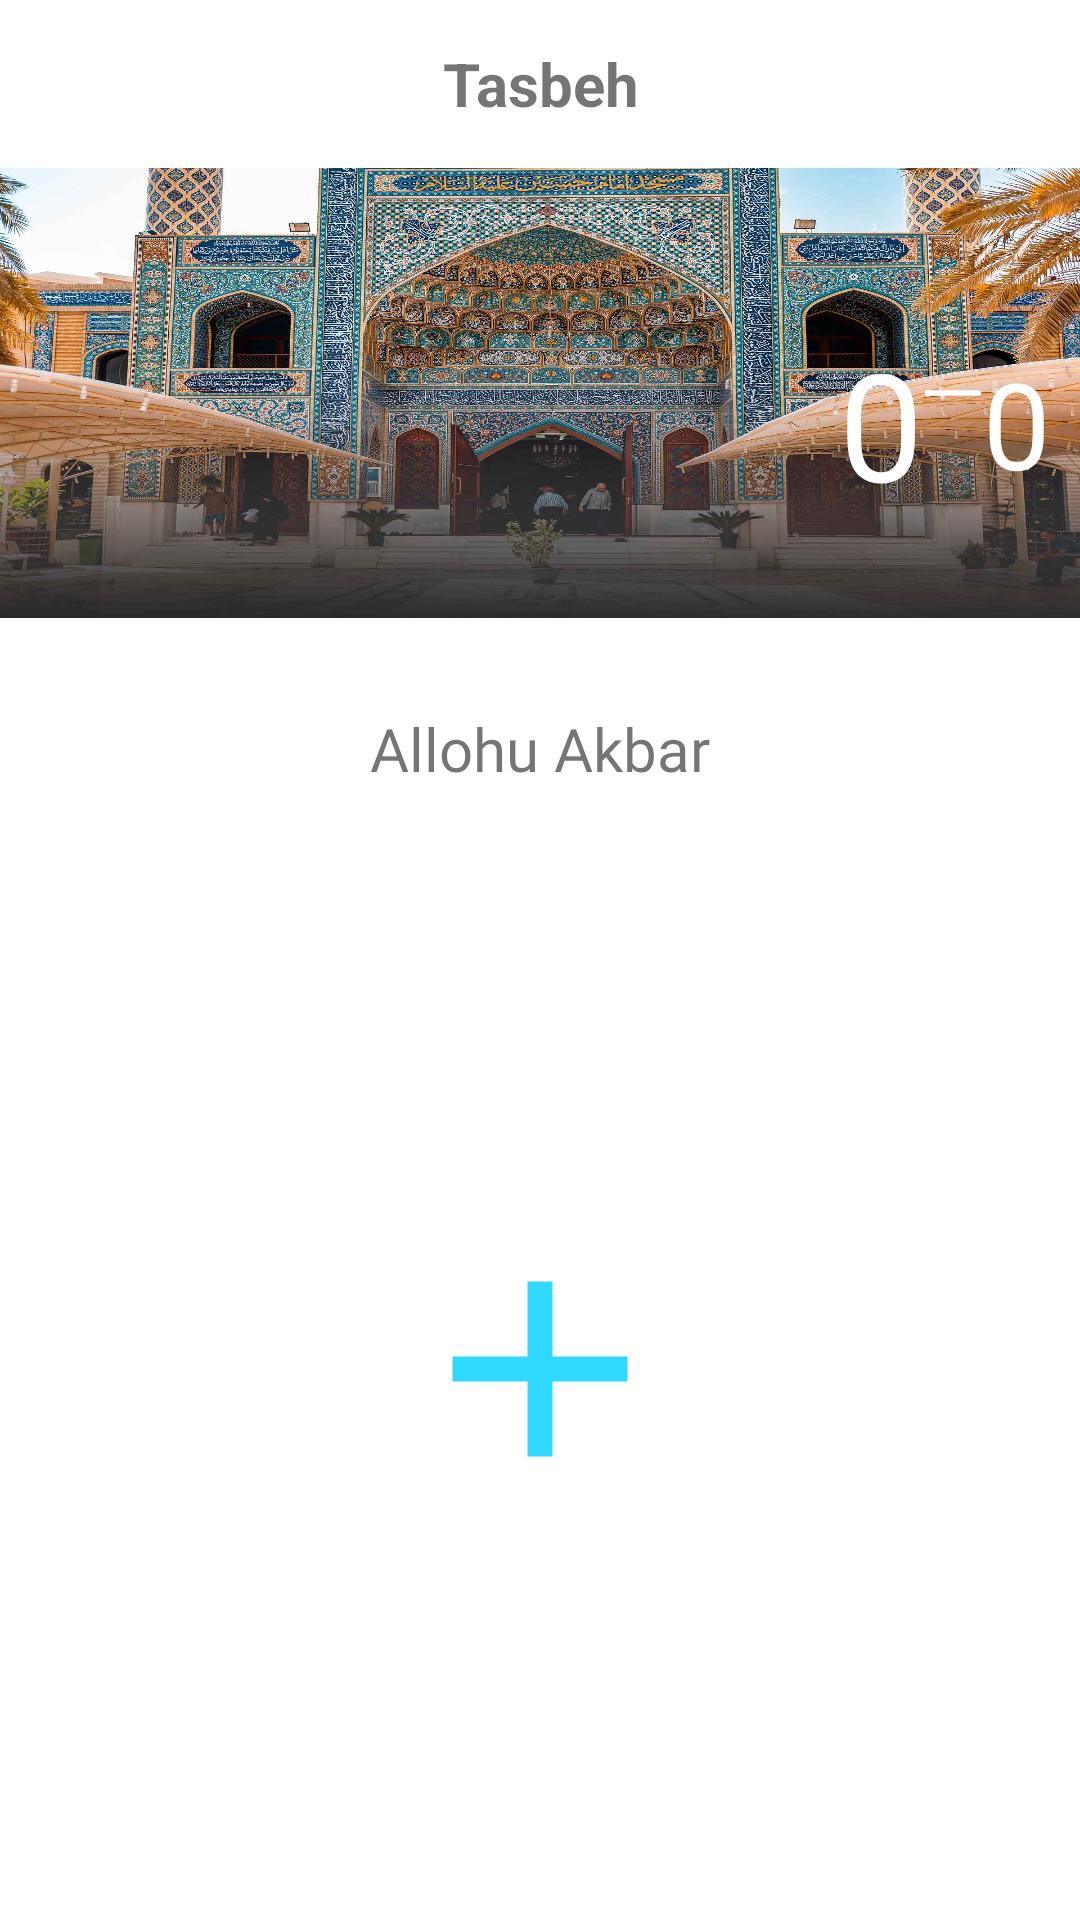

Icons on this 1080px×1920px Android screen, each with the point to tap as (x=x, y=y):
add: (x=540, y=1369)
